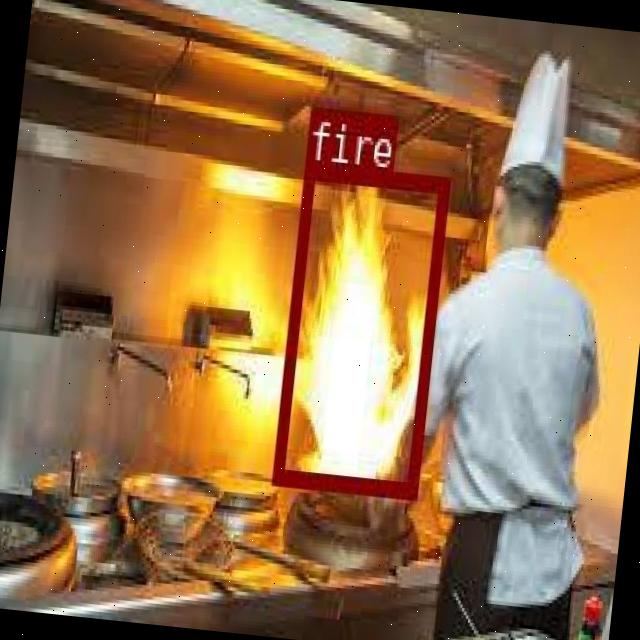fire: (270, 160, 449, 495)
